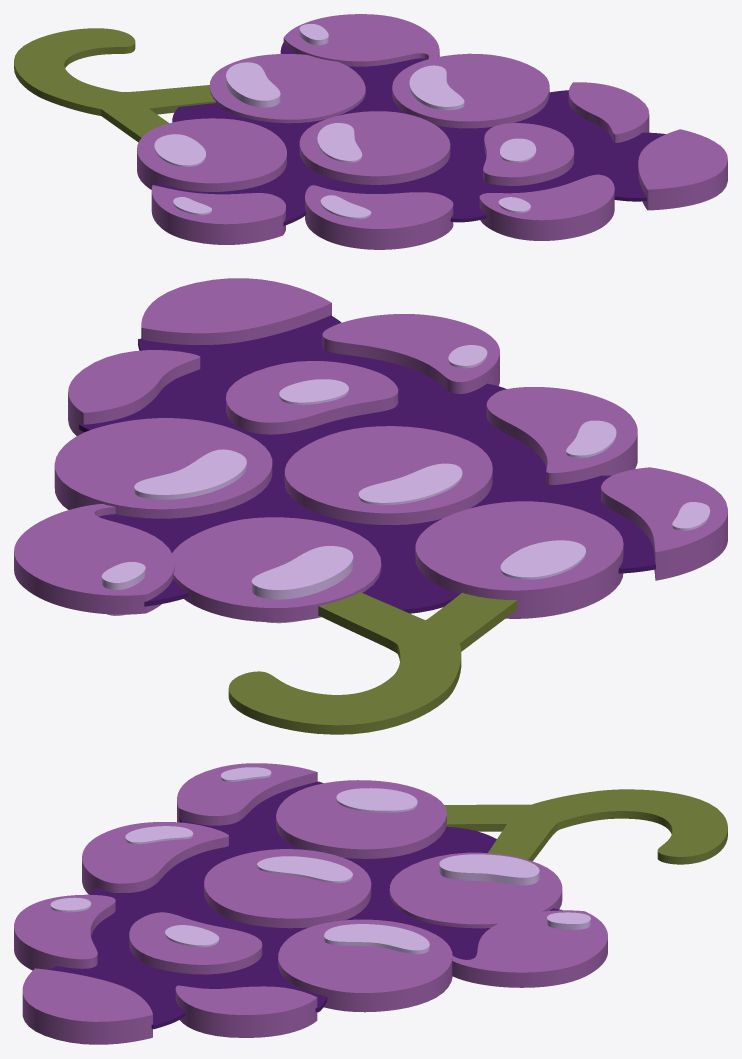
The model's file is emoji_u1f347.glb.
The picture shows the model from 3 angles, top to bottom: view 1: azimuth 30°, elevation 25°; view 2: azimuth 150°, elevation 25°; view 3: azimuth 270°, elevation 25°; orthographic projection. The views are drawn at different scales.
Visible parts, largest first — view 1: emoji_u1f347; view 2: emoji_u1f347; view 3: emoji_u1f347.
Part boxes in pixels (left/top/right/bottom): emoji_u1f347: left=14, top=14, right=727, bottom=249; emoji_u1f347: left=14, top=278, right=727, bottom=734; emoji_u1f347: left=14, top=763, right=727, bottom=1044.
Bounding box in the file's own units: 0.0291 × 0.0014 × 0.0339.
